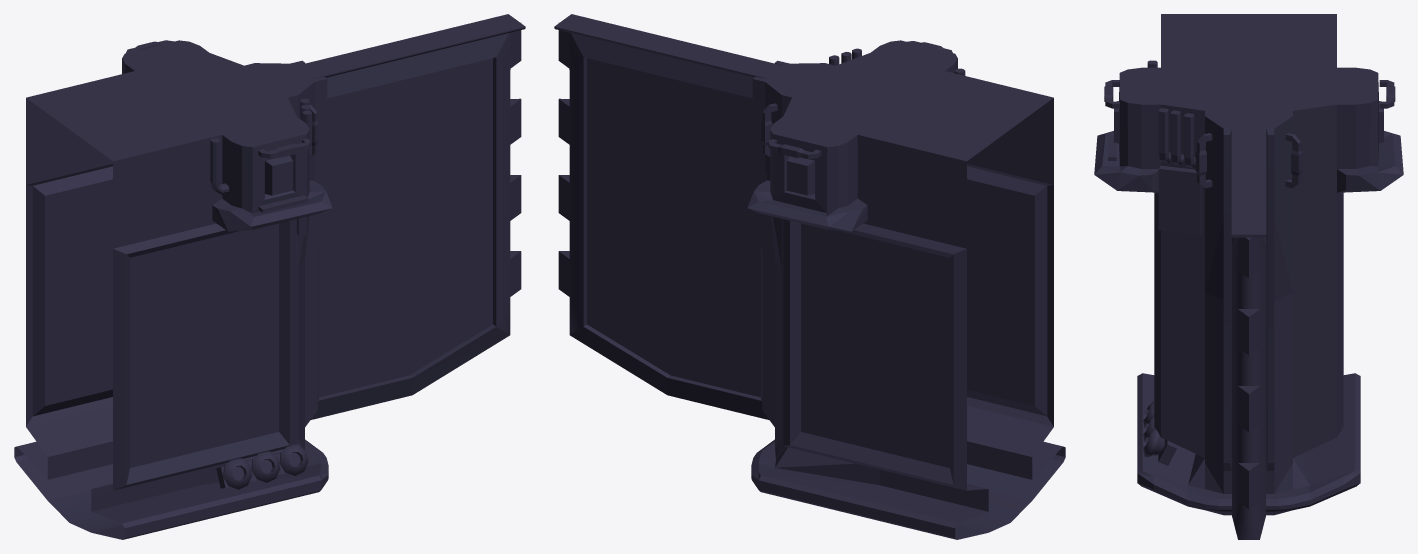
File: gate_right_low.FBX
The picture shows the model from 3 angles, left to right: view 1: azimuth 30°, elevation 25°; view 2: azimuth 150°, elevation 25°; view 3: azimuth 270°, elevation 25°; orthographic projection.
Parts seen in each view (by area): view 1: Object007; view 2: Object007; view 3: Object007.
Boxes of the visible parts, left/top/right/bottom form: Object007: left=14, top=14, right=525, bottom=539; Object007: left=554, top=14, right=1065, bottom=539; Object007: left=1094, top=14, right=1403, bottom=539.
Size of the model in its own units: 7990 by 6655 by 4693.
